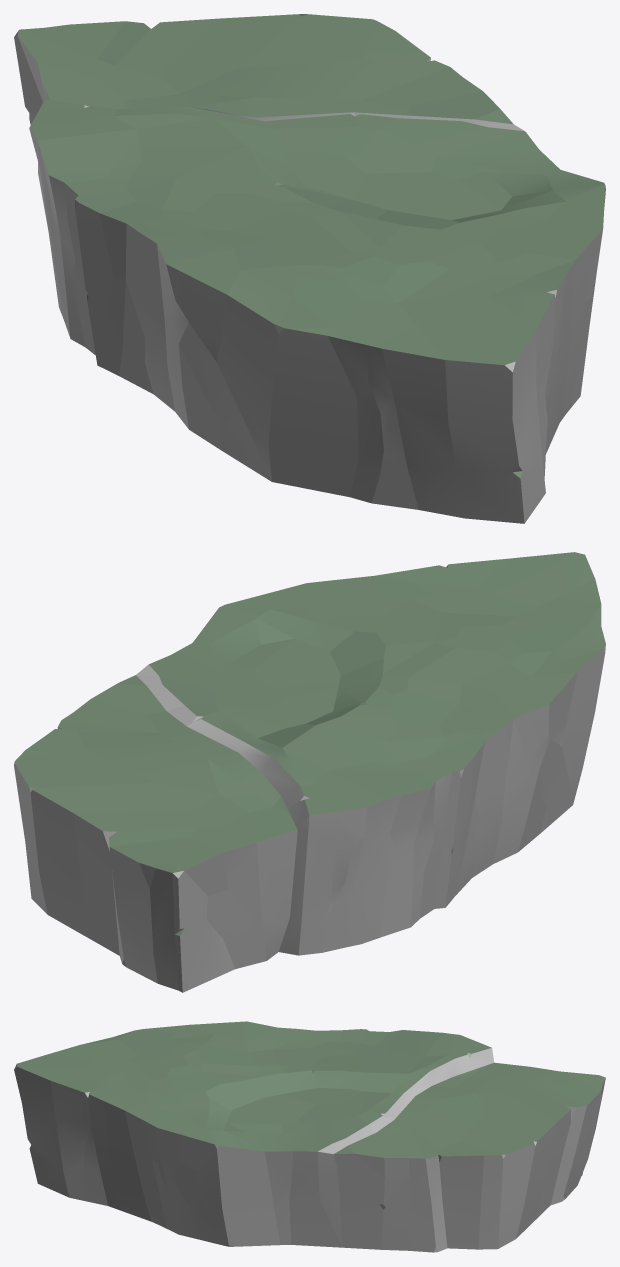
File: rock_boulder_B.fbx
3 views of the same model, one above another, from view 1: azimuth 30°, elevation 25°; view 2: azimuth 150°, elevation 25°; view 3: azimuth 270°, elevation 25° (orthographic). The views are drawn at different scales.
Visible parts, largest first — view 1: rock_boulder_B; view 2: rock_boulder_B; view 3: rock_boulder_B.
Boxes of the visible parts, <box> form: rock_boulder_B: <box>14,14,605,523</box>; rock_boulder_B: <box>14,552,605,992</box>; rock_boulder_B: <box>14,1021,605,1252</box>.
Bounding box in the file's own units: 205 × 83.61 × 403.
